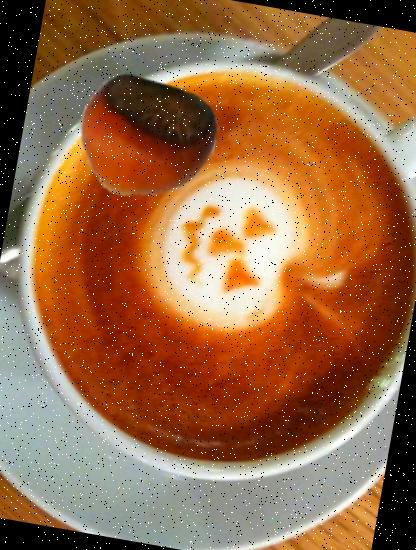Nut: (66, 61, 224, 219)
